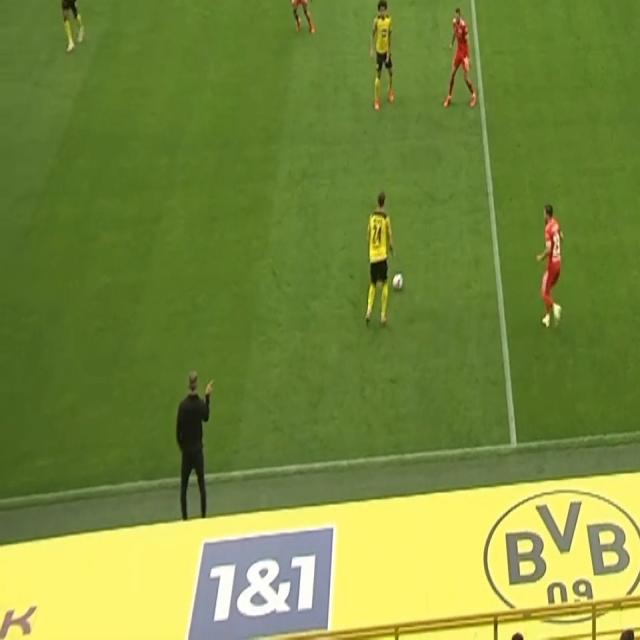ball: (392, 271, 404, 292)
